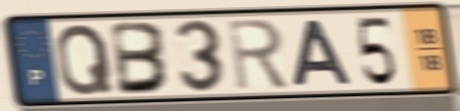3: (172, 18, 229, 95)
5: (353, 14, 399, 87)
A: (289, 18, 355, 89)
B: (109, 20, 174, 98)
Q: (54, 22, 117, 99)
R: (225, 17, 292, 93)
